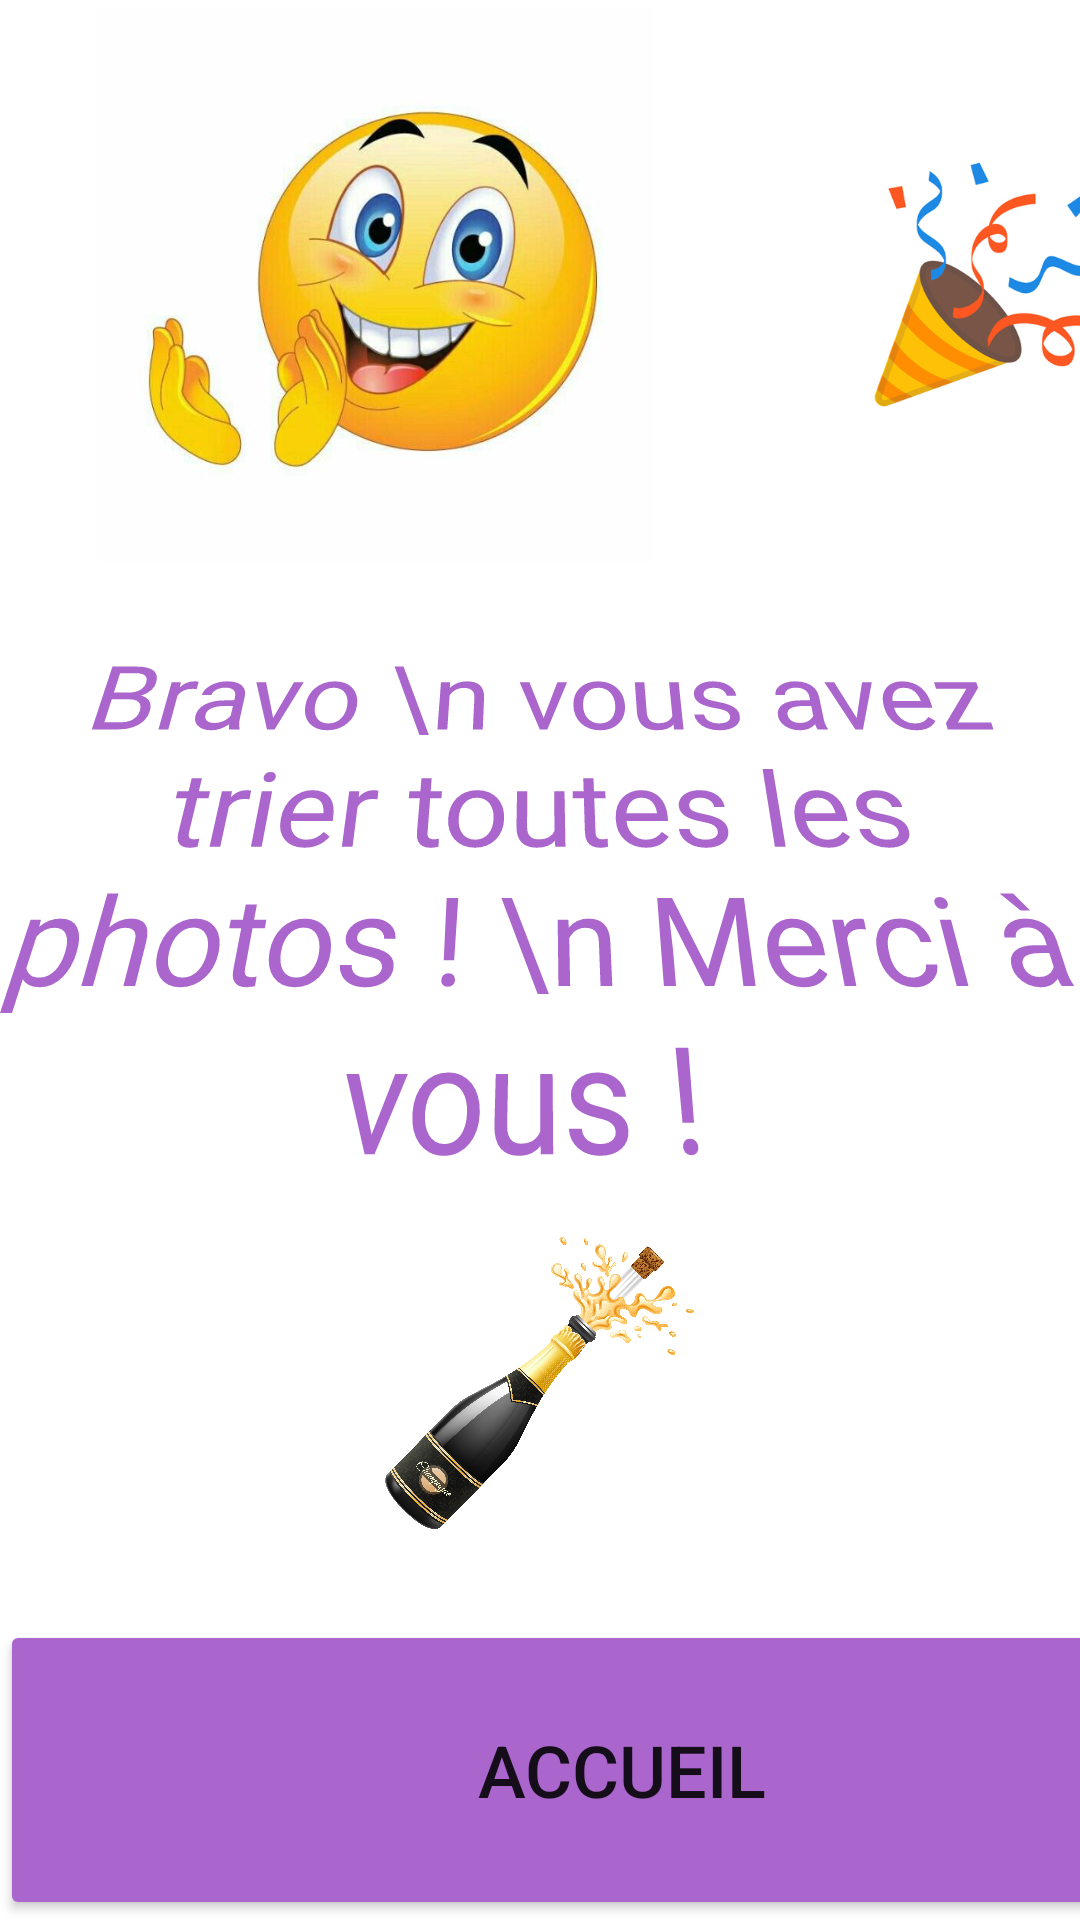

Locate icon controls on the screen. Image size 1080×1920, boxes as (x1=x1, y1=y1, x2=x2, y2=y2).
champagne: (x1=385, y1=1237, x2=694, y2=1529)
